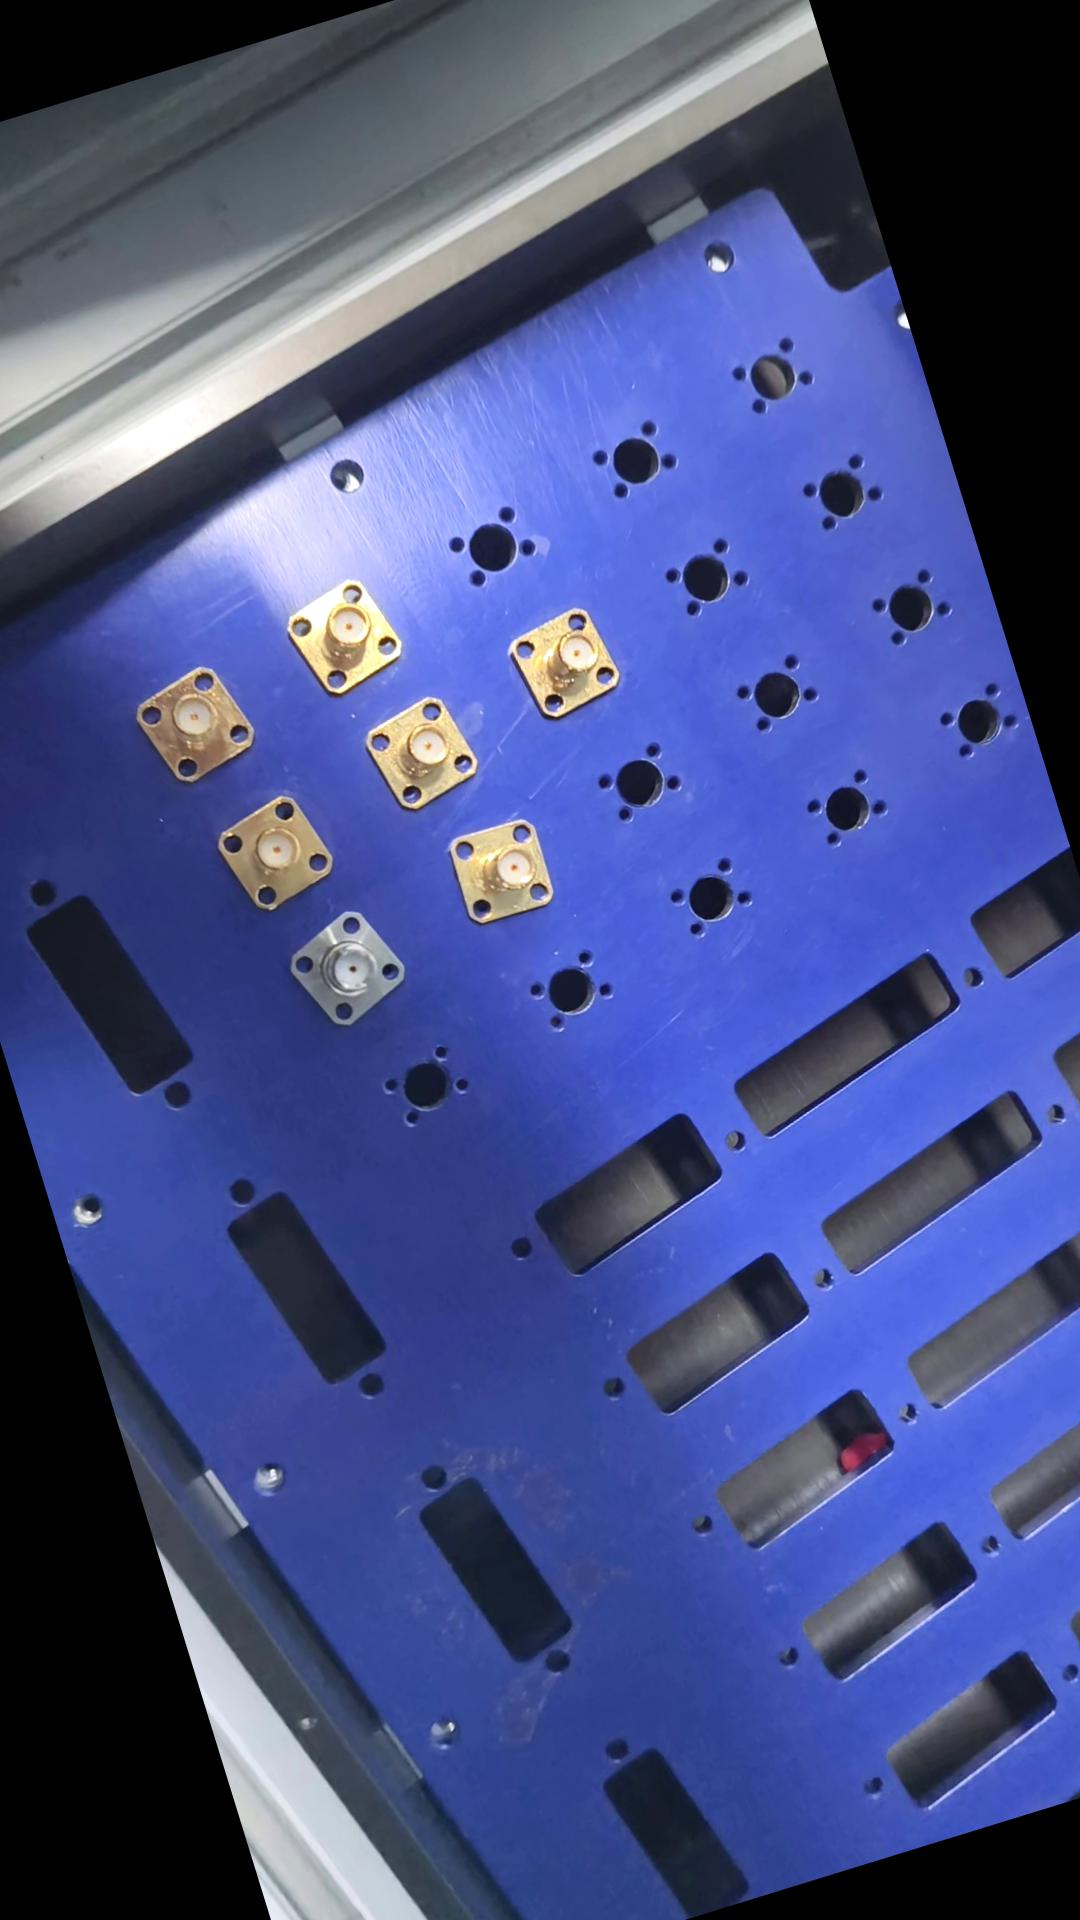SMA: (123, 655, 272, 796), (280, 898, 425, 1034), (278, 564, 421, 700), (212, 785, 349, 916), (436, 806, 572, 938), (357, 688, 495, 818), (505, 597, 632, 731)
